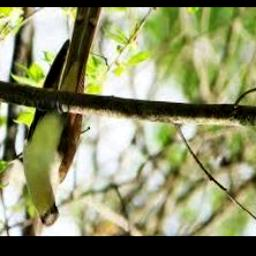Cuckoo: (23, 7, 103, 226)
